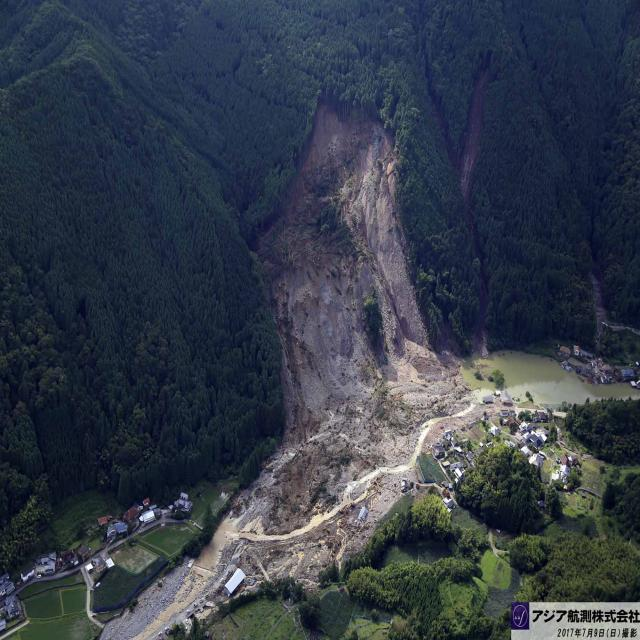Debris-flow: (234, 103, 470, 583)
